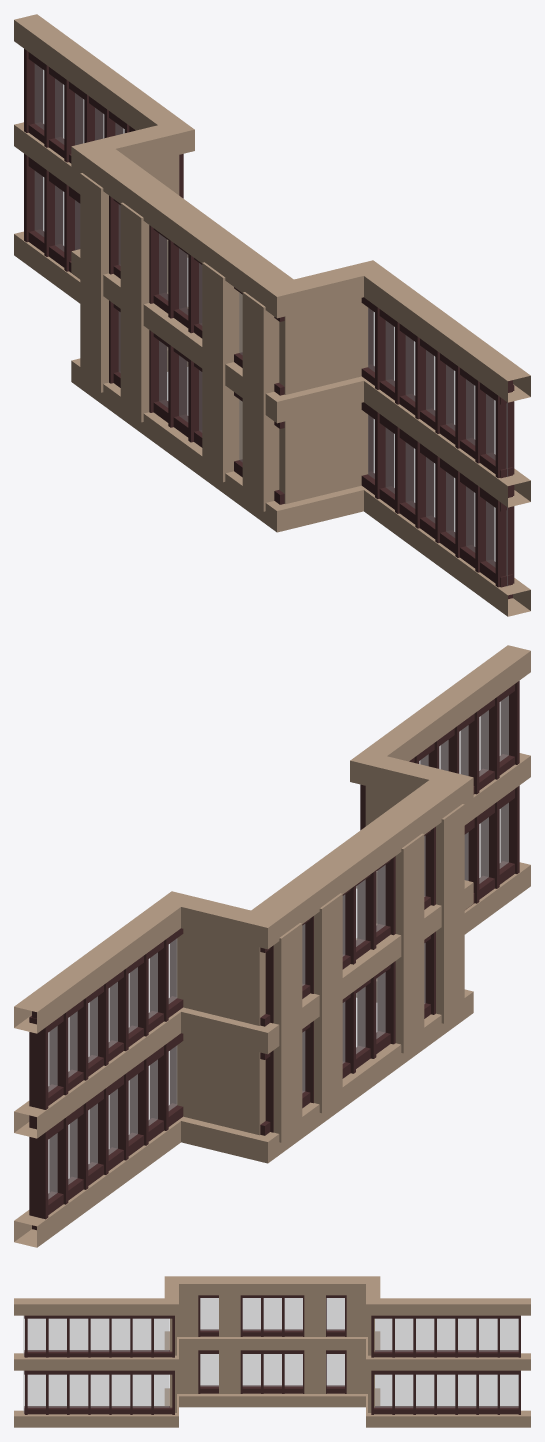
File: mdl_side_25x25.fbx
3 views of the same model, one above another, from view 1: azimuth 30°, elevation 25°; view 2: azimuth 150°, elevation 25°; view 3: azimuth 270°, elevation 25° (orthographic). The views are drawn at different scales.
Parts seen in each view (by area): view 1: Bordure_haute.004, Cube.007, Plane.002, Glass, Plane.005, Bordure_haute.001, Bordure_haute.005, Plane.003, Plane.001, Cube.001, Cube.003, Cube.004 (+2 smaller); view 2: Bordure_haute.004, Cube.007, Plane.001, Glass, Plane.004, Bordure_haute.001, Plane.003, Bordure_haute.005, Plane.002, Cube.001, Cube.003, Cube.004 (+2 smaller); view 3: Glass, Bordure_haute.004, Bordure_haute.005, Bordure_haute.001, Cube.007, Cube.001, Cube.003, Plane.002, Plane.001, Cube.004, Plane.003, Cube.002 (+2 smaller).
Part boxes in pixels (x1=…): Bordure_haute.004: x1=14, y1=14, x2=530, y2=402; Cube.007: x1=80, y1=173, x2=279, y2=511; Plane.002: x1=368, y1=305, x2=514, y2=587; Glass: x1=34, y1=64, x2=507, y2=586; Plane.005: x1=279, y1=298, x2=368, y2=504; Bordure_haute.001: x1=14, y1=231, x2=530, y2=616; Bordure_haute.005: x1=14, y1=122, x2=530, y2=507; Plane.003: x1=109, y1=195, x2=202, y2=442; Plane.001: x1=24, y1=49, x2=183, y2=271; Cube.001: x1=28, y1=229, x2=512, y2=599; Cube.003: x1=28, y1=122, x2=512, y2=491; Cube.004: x1=28, y1=157, x2=512, y2=511; Bordure_haute.004: x1=14, y1=645, x2=530, y2=1033; Cube.007: x1=273, y1=804, x2=464, y2=1142; Plane.001: x1=29, y1=937, x2=176, y2=1219; Glass: x1=48, y1=695, x2=508, y2=1199; Plane.004: x1=176, y1=929, x2=265, y2=1135; Bordure_haute.001: x1=14, y1=862, x2=530, y2=1247; Plane.003: x1=265, y1=826, x2=435, y2=1132; Bordure_haute.005: x1=14, y1=753, x2=530, y2=1138; Plane.002: x1=360, y1=681, x2=519, y2=903; Cube.001: x1=32, y1=861, x2=514, y2=1230; Cube.003: x1=48, y1=754, x2=514, y2=1105; Cube.004: x1=48, y1=789, x2=514, y2=1139; Glass: x1=23, y1=1298, x2=518, y2=1412; Bordure_haute.004: x1=14, y1=1276, x2=530, y2=1315; Bordure_haute.005: x1=14, y1=1331, x2=530, y2=1370; Bordure_haute.001: x1=14, y1=1388, x2=530, y2=1427; Cube.007: x1=177, y1=1295, x2=367, y2=1393; Cube.001: x1=24, y1=1385, x2=518, y2=1414; Cube.003: x1=24, y1=1329, x2=518, y2=1357; Plane.002: x1=25, y1=1315, x2=174, y2=1414; Plane.001: x1=371, y1=1315, x2=520, y2=1414; Cube.004: x1=24, y1=1350, x2=518, y2=1374; Plane.003: x1=198, y1=1295, x2=346, y2=1393; Cube.002: x1=24, y1=1295, x2=518, y2=1318.
Size of the model in its own units: 2.74 by 5.5 by 20.9.
